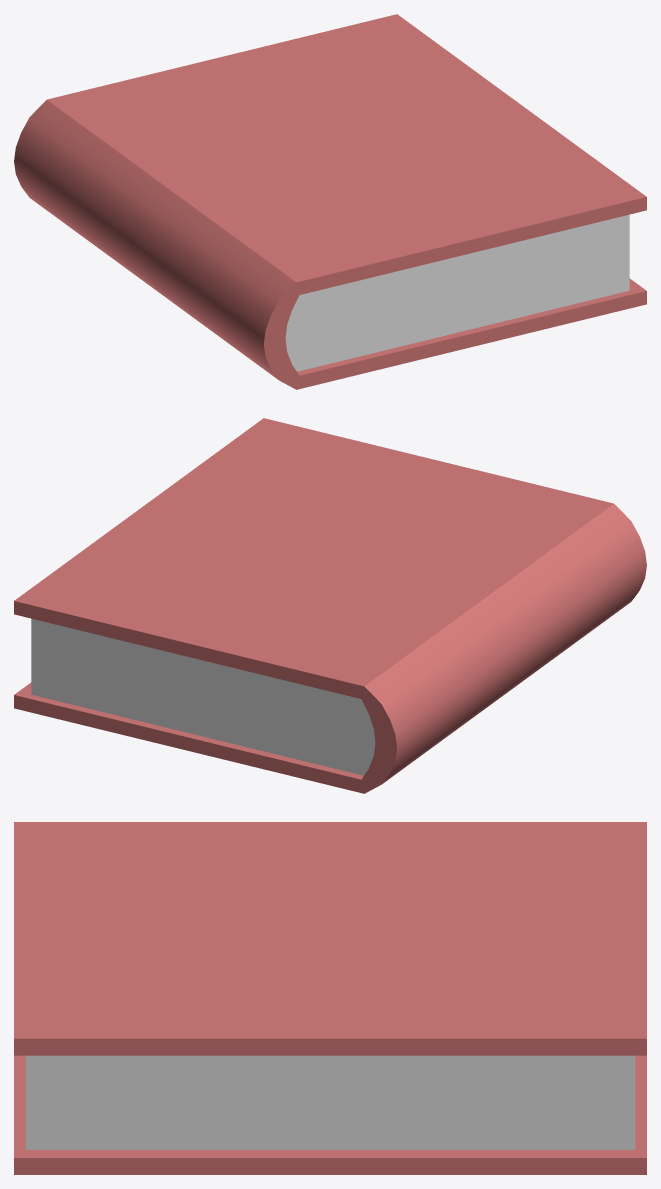
Rendered from Book_2.fbx.
3 views of the same model, one above another, from view 1: azimuth 30°, elevation 25°; view 2: azimuth 150°, elevation 25°; view 3: azimuth 270°, elevation 25° (orthographic). The views are drawn at different scales.
Visible parts, largest first — view 1: Book_2; view 2: Book_2; view 3: Book_2.
Part boxes in pixels (bbox=[...]): Book_2: bbox=[14, 14, 646, 389]; Book_2: bbox=[14, 418, 646, 793]; Book_2: bbox=[14, 822, 646, 1174].
Bounding box in the file's own units: 83.65 × 22.41 × 94.45.
